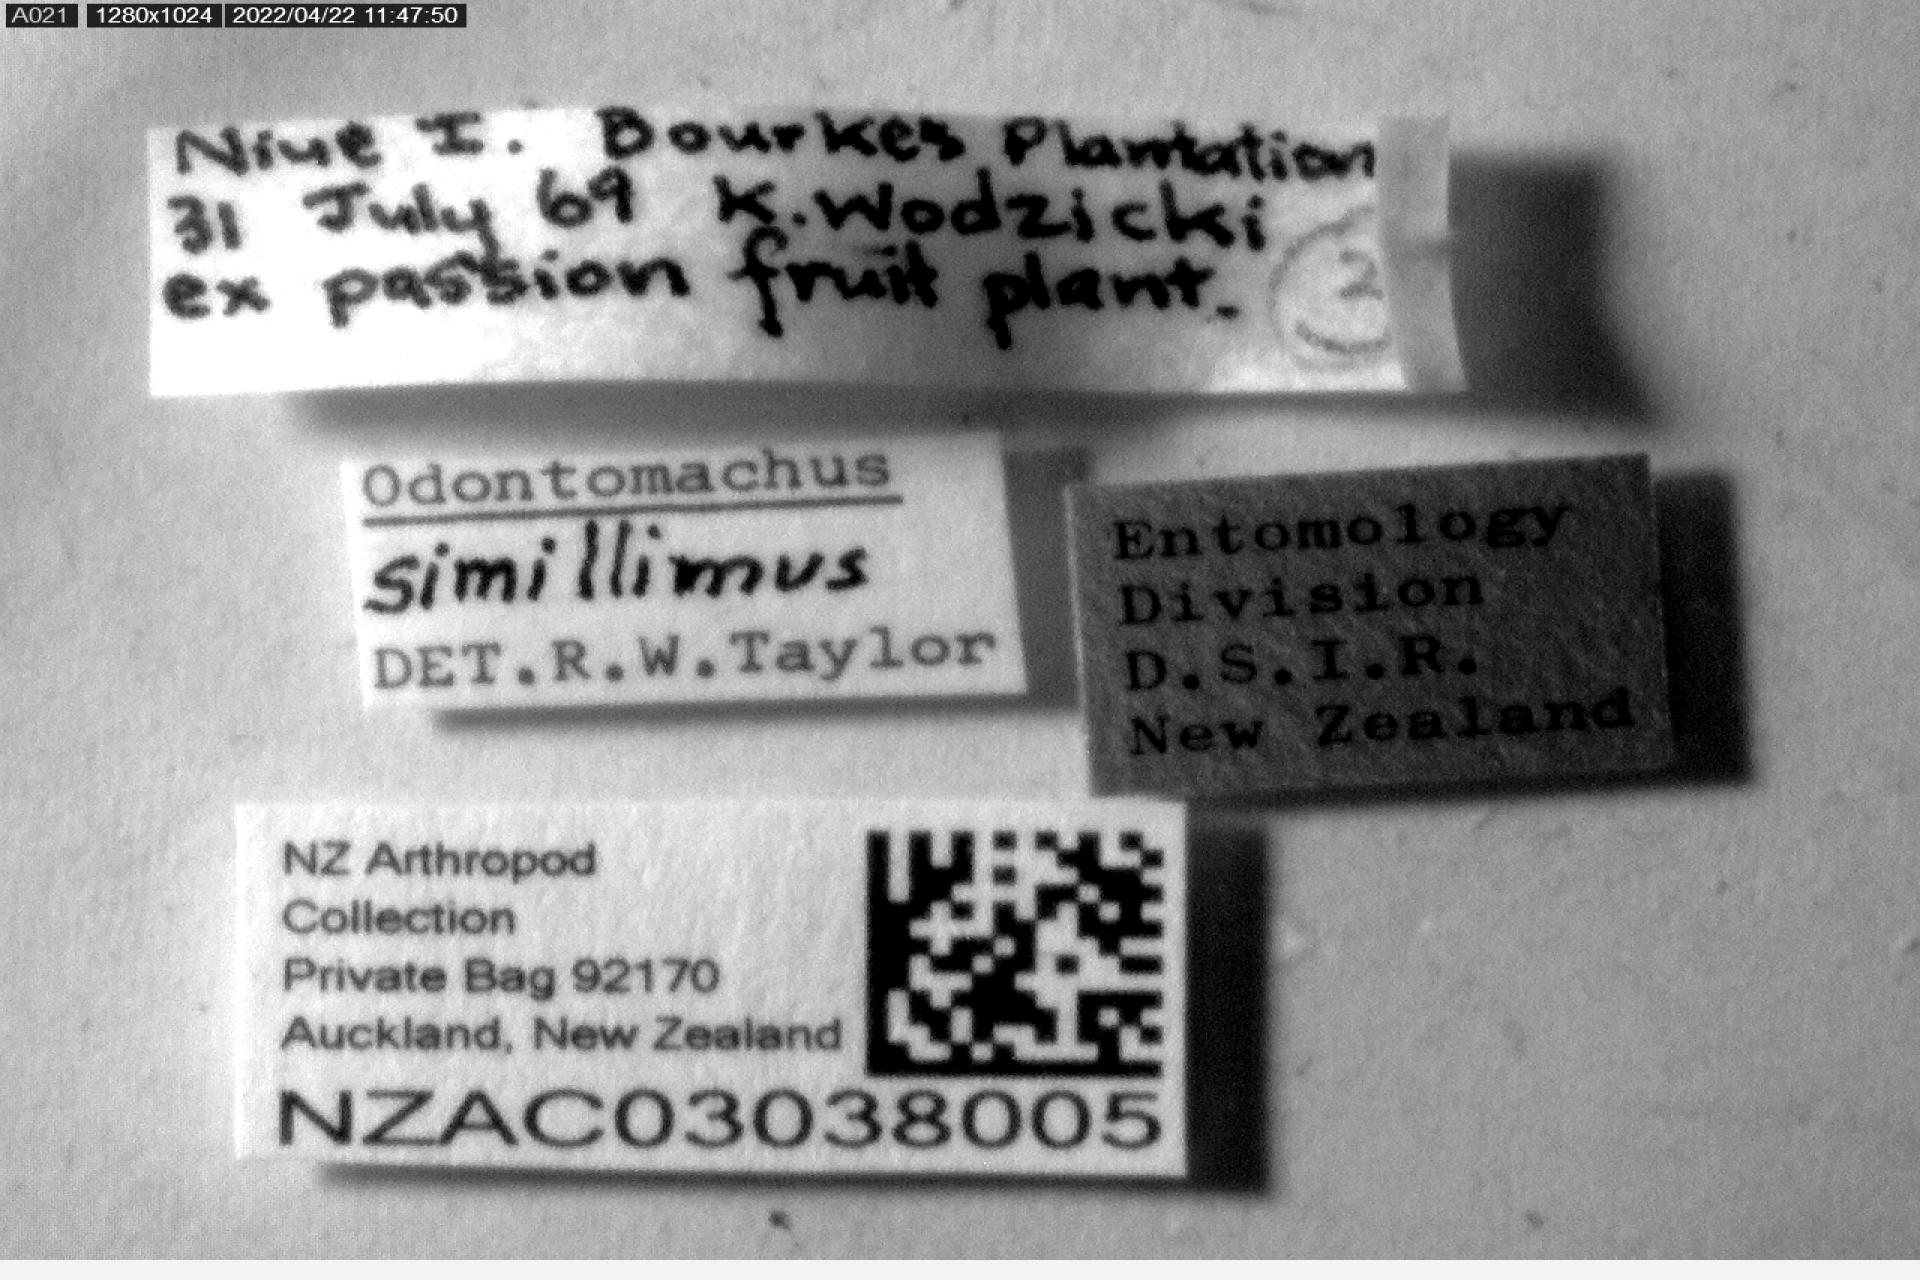hand_label: (150, 103, 1463, 397)
mixed_label: (346, 434, 1024, 710)
typed_label: (236, 800, 1186, 1179), (1069, 456, 1673, 794)
